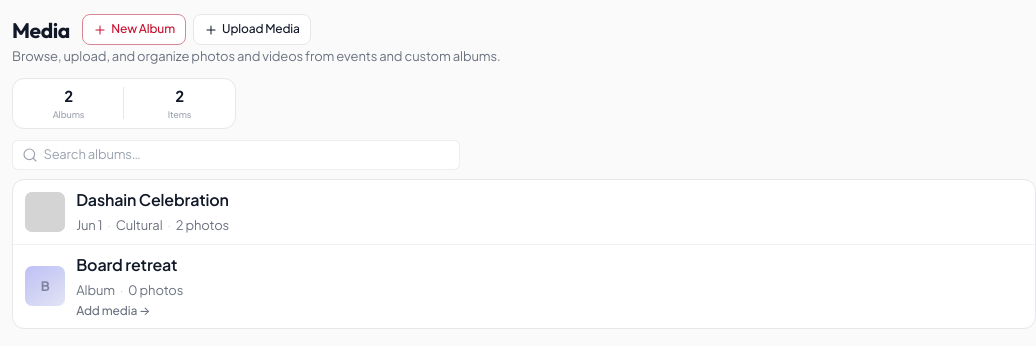
Test case: PhotoArchivePage › lets upload media pick event and custom albums
Check: the text "Dashain Celebration" is shown, box [76,190,229,210]
Click the button "Upload Media".
click(252, 30)  # box [193,14,311,45]
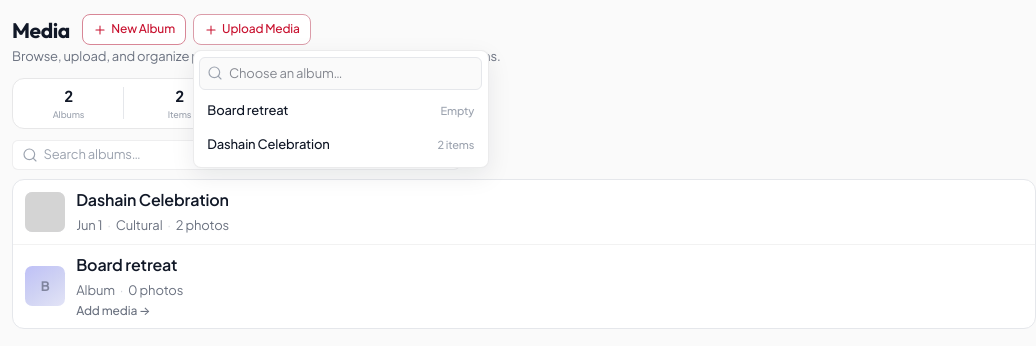
Check: the menu named "Choose album to upload" is shown, box [193,50,489,168]
Check: the menu item "Board retreat Empty" is shown, box [199,94,482,128]
